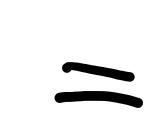eqv: (55, 62, 143, 109)
